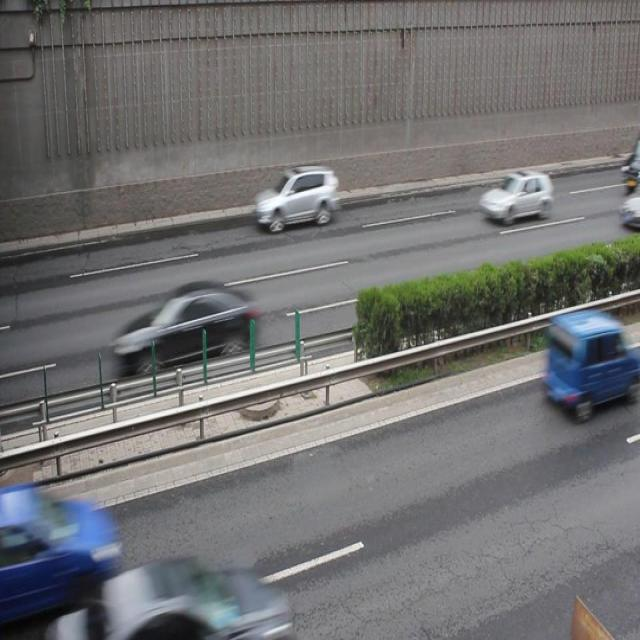car: (79, 557, 279, 640), (1, 492, 113, 621), (110, 282, 252, 378), (542, 312, 624, 418), (257, 166, 337, 232), (478, 166, 550, 225)
